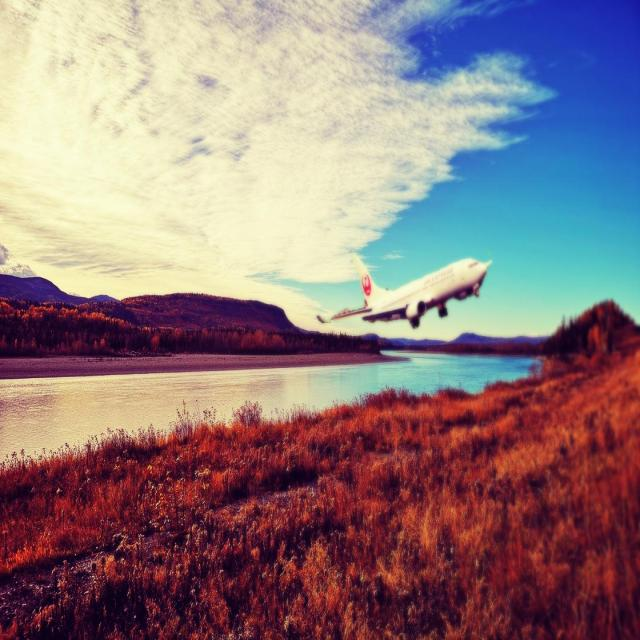airplane: (316, 253, 492, 329)
